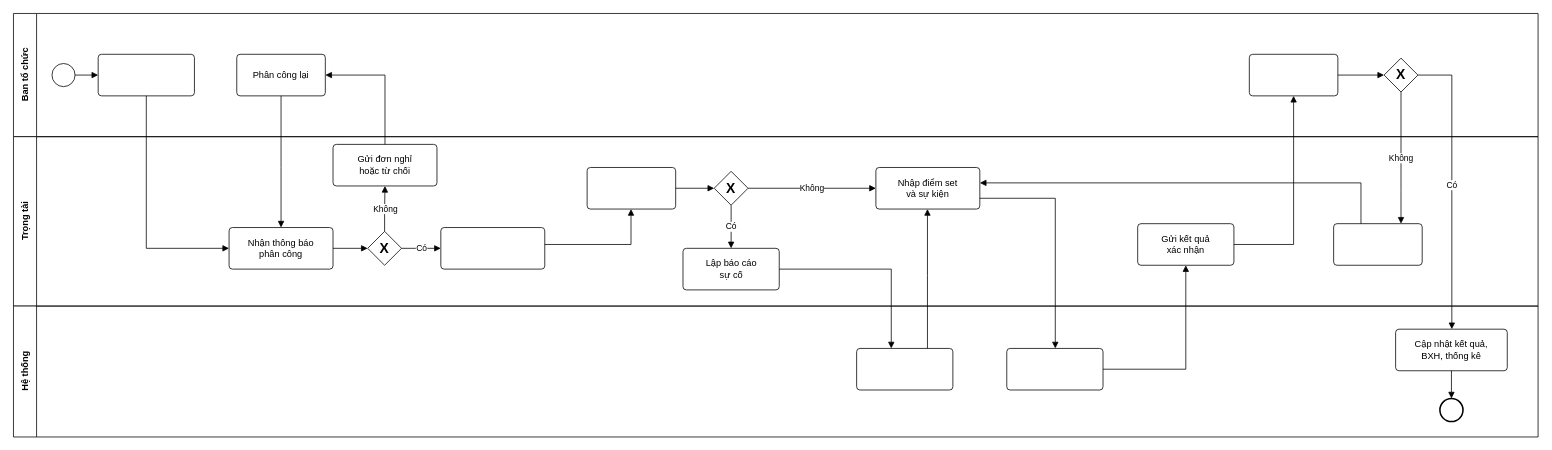
Some shapes in this 1552 by 450 pixel diagram are drawn without their labels. The shapes that lost their labels are listed below. From the top down, each one's centre as x and y in pixels, then its label:
At (x=145, y=75): "Phân công trọng tài".
At (x=1293, y=75): "Kiểm tra kết quả".
At (x=631, y=188): "Giám sát trận đấu".
At (x=492, y=248): "Xem lịch và thông tin trận".
At (x=1377, y=244): "Yêu cầu điều chỉnh".
At (x=904, y=369): "Gửi báo cáo cho BTC".
At (x=1054, y=369): "Tính kết quả trận đấu".
